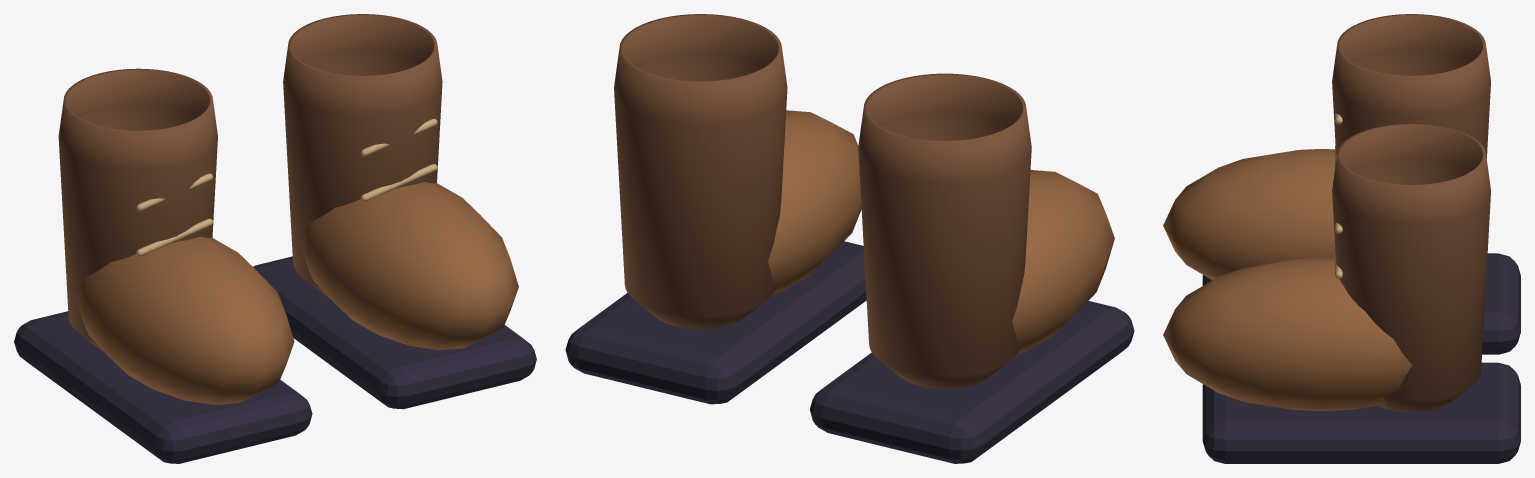
Rendered from boots.glb.
3 renders of one model, left to right at view 1: azimuth 30°, elevation 25°; view 2: azimuth 150°, elevation 25°; view 3: azimuth 270°, elevation 25°, orthographic. The views are drawn at different scales.
Parts seen in each view (by area): view 1: Boot_ankle, Boot_ankle.001, Leather_toe, Leather_toe.001, Sole, Sole.001, Laces.001, Laces.004; view 2: Boot_ankle, Boot_ankle.001, Sole, Sole.001, Leather_toe, Leather_toe.001; view 3: Boot_ankle.001, Leather_toe.001, Sole.001, Boot_ankle, Leather_toe, Sole.
Boxes of the visible parts, left/top/right/bottom form: Boot_ankle: left=58, top=68, right=217, bottom=351; Boot_ankle.001: left=283, top=14, right=442, bottom=296; Leather_toe: left=76, top=236, right=294, bottom=404; Leather_toe.001: left=300, top=182, right=518, bottom=350; Sole: left=14, top=311, right=312, bottom=463; Sole.001: left=253, top=256, right=536, bottom=409; Laces.001: left=136, top=218, right=212, bottom=256; Laces.004: left=360, top=164, right=437, bottom=201; Boot_ankle: left=858, top=73, right=1031, bottom=388; Boot_ankle.001: left=614, top=14, right=787, bottom=329; Sole: left=809, top=301, right=1134, bottom=463; Sole.001: left=565, top=241, right=866, bottom=404; Leather_toe: left=1012, top=170, right=1114, bottom=354; Leather_toe.001: left=768, top=110, right=861, bottom=294; Boot_ankle.001: left=1332, top=123, right=1490, bottom=412; Leather_toe.001: left=1163, top=258, right=1412, bottom=410; Sole.001: left=1202, top=362, right=1520, bottom=463; Boot_ankle: left=1332, top=14, right=1490, bottom=158; Leather_toe: left=1163, top=149, right=1335, bottom=280; Sole: left=1202, top=253, right=1520, bottom=354.
Bounding box in the file's own units: 0.44 × 0.31 × 0.36.
